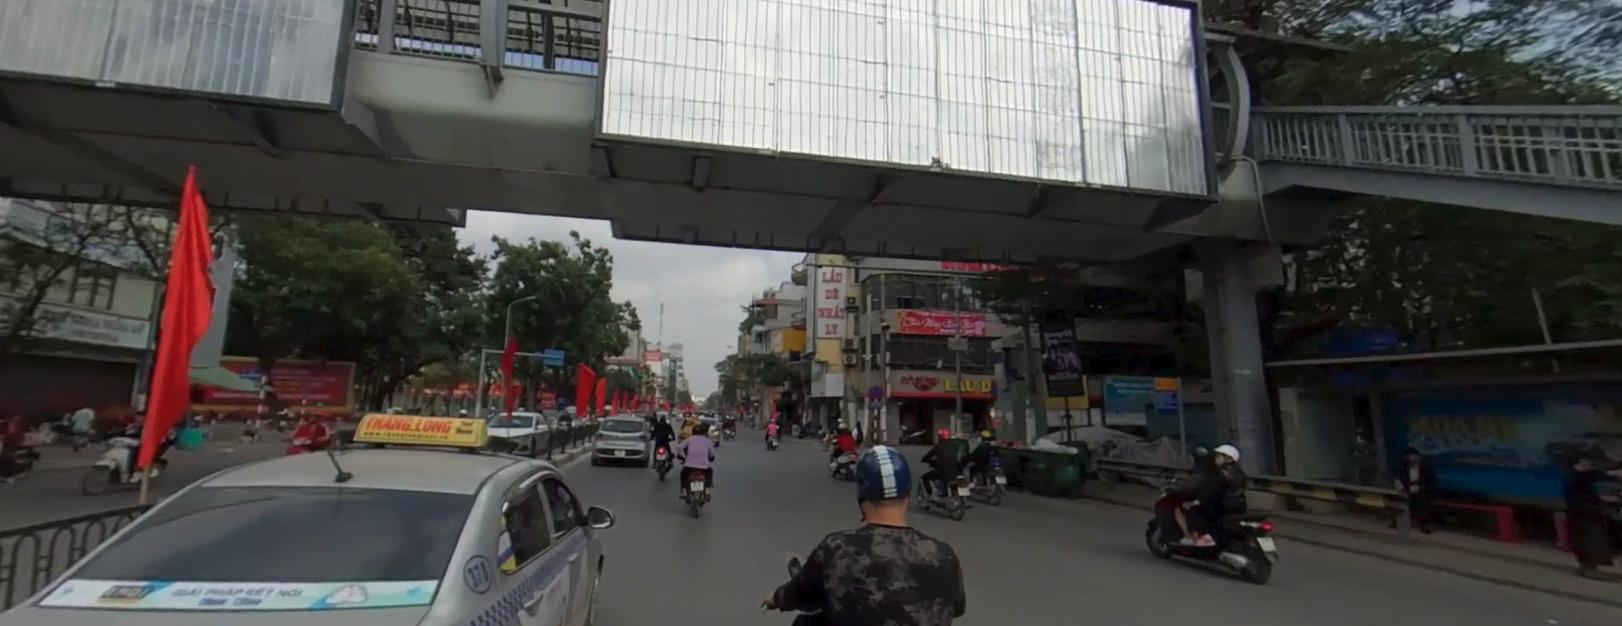Cam dung va do: (869, 383, 882, 398)
